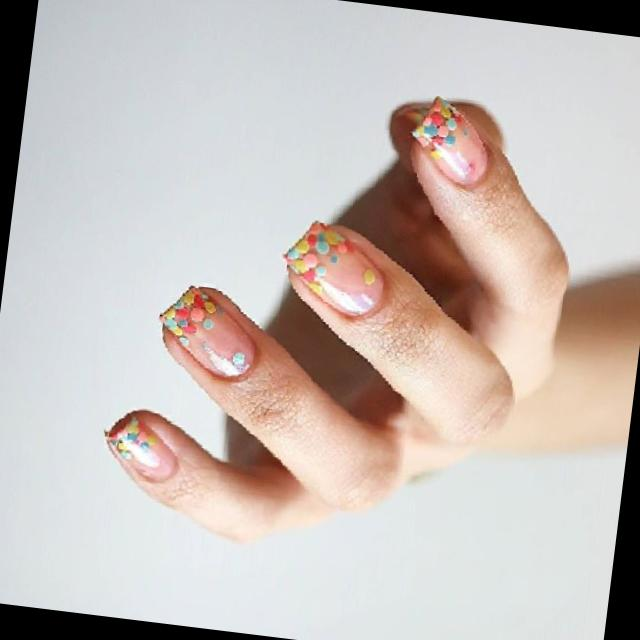Nail: (284, 221, 383, 315), (159, 286, 254, 379), (411, 98, 486, 186), (106, 416, 170, 481)
